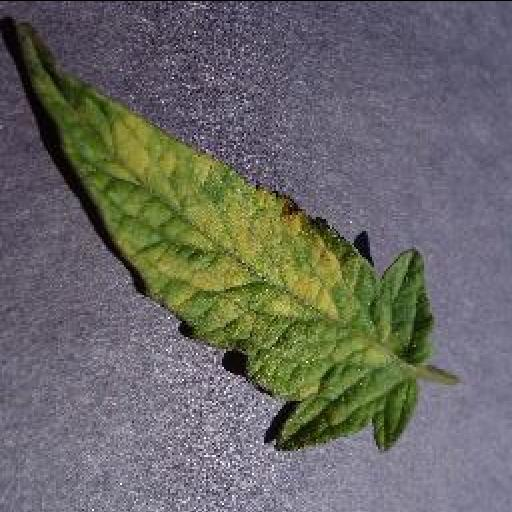disease_tomato: (12, 24, 434, 450)
